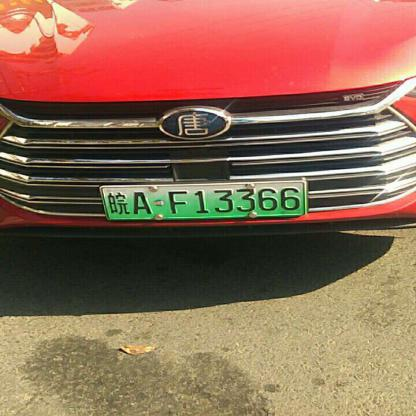lp: (101, 182, 304, 218)
